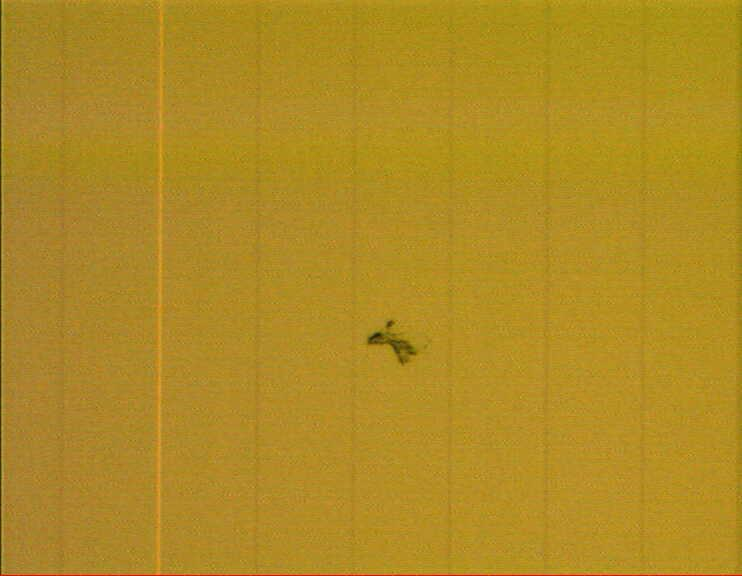PIQ PARTICLE: (367, 320, 419, 366)
